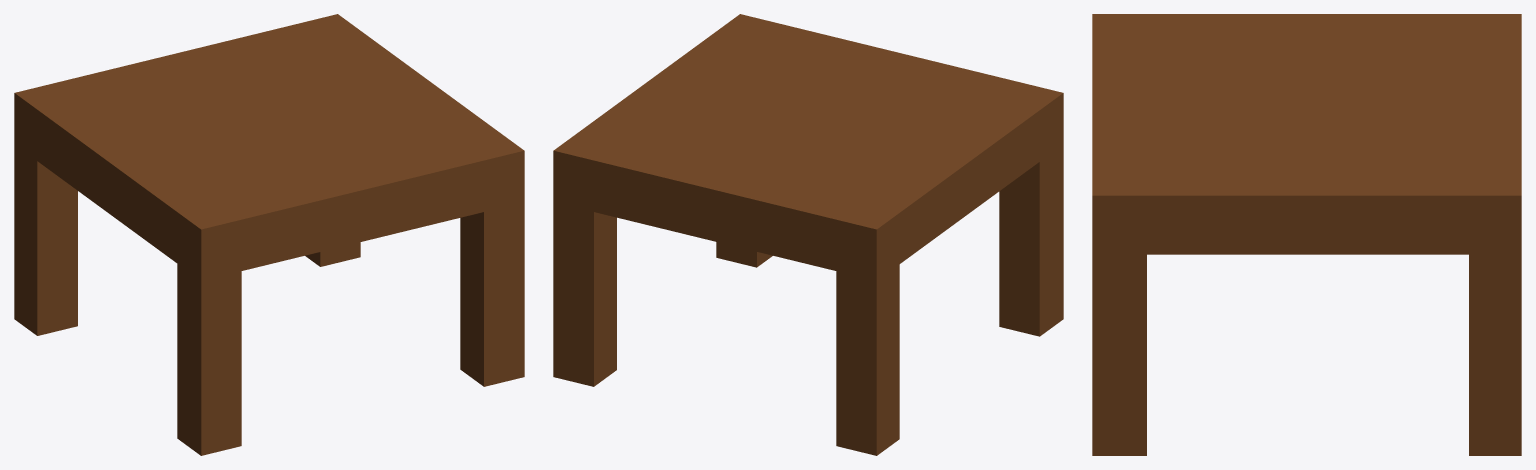
Rendered from table.fbx.
3 views of the same model, side by side, from view 1: azimuth 30°, elevation 25°; view 2: azimuth 150°, elevation 25°; view 3: azimuth 270°, elevation 25° (orthographic). The views are drawn at different scales.
Visible parts, largest first — view 1: Cube; view 2: Cube; view 3: Cube.
Part boxes in pixels (x1,y1,x2,y2): Cube: (14, 14, 524, 455); Cube: (553, 14, 1063, 455); Cube: (1092, 14, 1521, 455).
Bounding box in the file's own units: 200 × 134 × 200.
